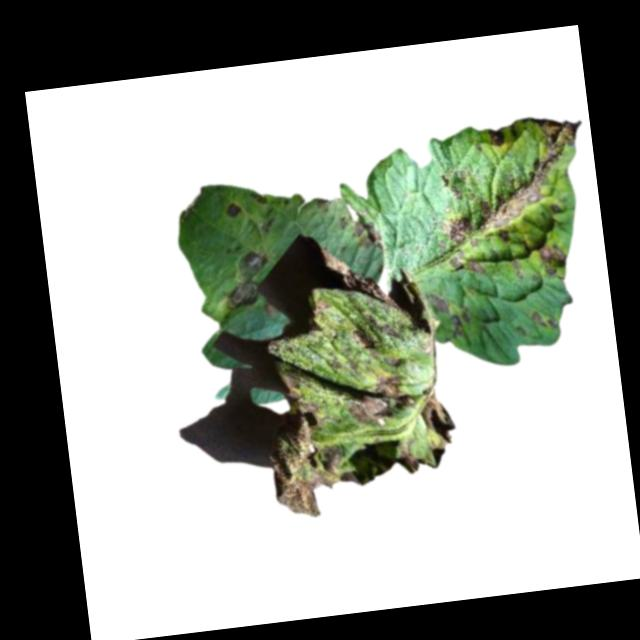Early_blight: (429, 113, 588, 248), (260, 365, 351, 520), (326, 241, 401, 317), (341, 370, 415, 428), (220, 250, 269, 309), (416, 394, 460, 448), (429, 289, 468, 337), (537, 242, 570, 279), (394, 435, 422, 477), (446, 250, 485, 278), (352, 324, 377, 353), (379, 319, 403, 342), (223, 200, 241, 219)
